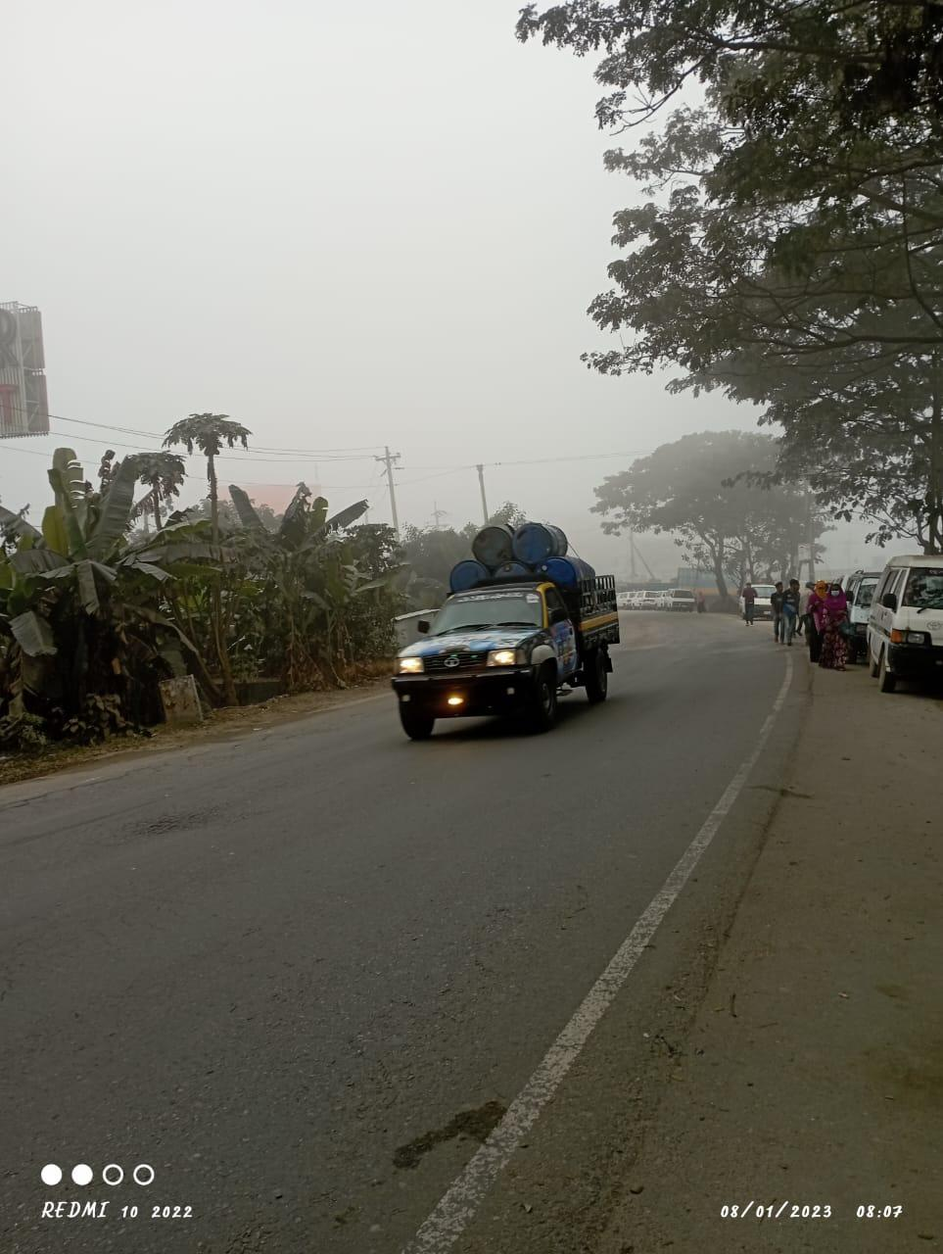Car: (867, 546, 943, 701), (741, 575, 787, 628)
Truck: (376, 499, 627, 732)
